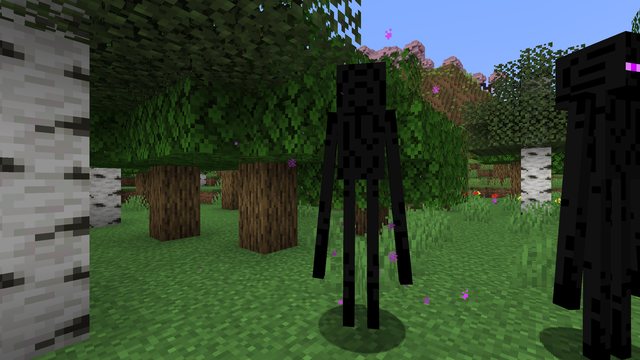endermens: (559, 25, 636, 358), (323, 46, 397, 349)
